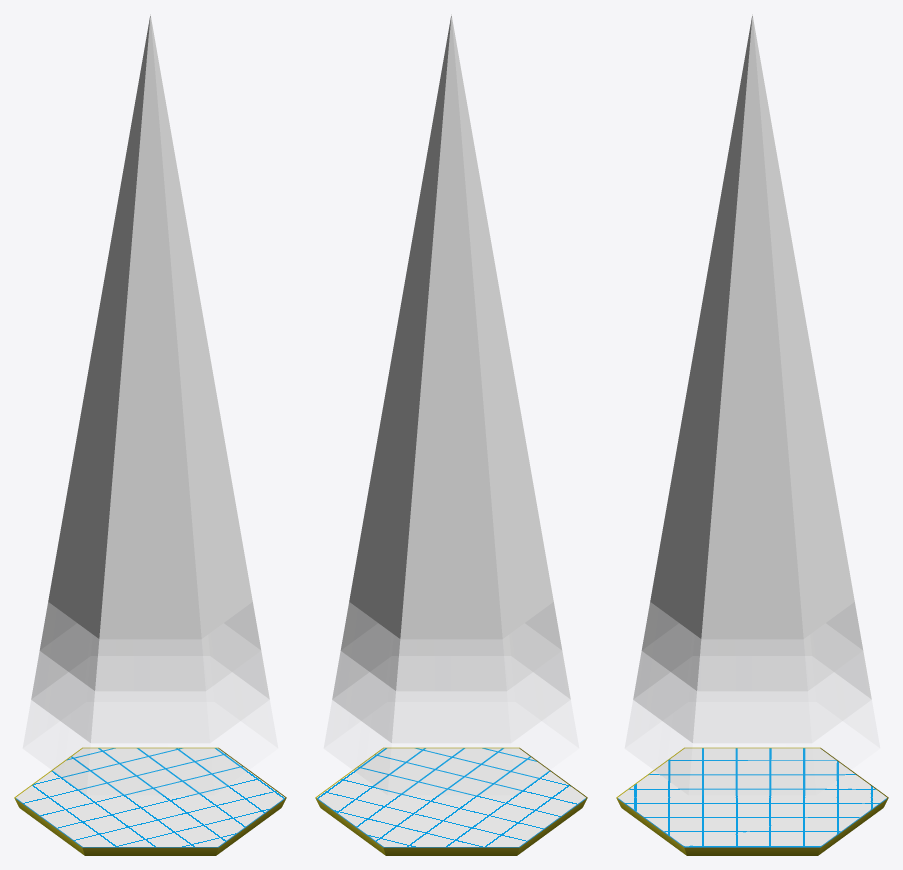
File: MirrorL_Reflect.dae
3 views of the same model, side by side, from view 1: azimuth 30°, elevation 25°; view 2: azimuth 150°, elevation 25°; view 3: azimuth 270°, elevation 25° (orthographic).
Visible parts, largest first — view 1: Plane; view 2: Plane; view 3: Plane.
Part boxes in pixels (x1,y1,x2,y2): Plane: (14,14,286,855); Plane: (315,14,587,855); Plane: (616,14,888,855).
Size of the model in its own units: 4.19 by 4.84 by 15.98.
Materials: 4 (3 with a texture image).
